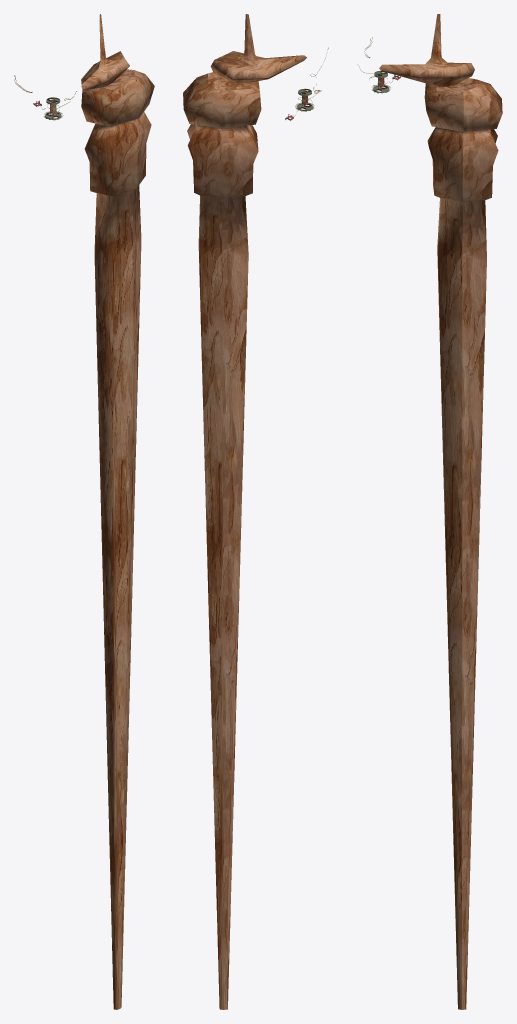
File: Bullet Station 15.fbx
3 renders of one model, left to right at view 1: azimuth 30°, elevation 25°; view 2: azimuth 150°, elevation 25°; view 3: azimuth 330°, elevation 25°, orthographic.
Visible parts, largest first — view 1: STG08_ON_17; view 2: STG08_ON_17; view 3: STG08_ON_17.
Boxes of the visible parts, bbox=[...] form: STG08_ON_17: bbox=[14, 14, 154, 1009]; STG08_ON_17: bbox=[183, 14, 328, 1009]; STG08_ON_17: bbox=[357, 14, 502, 1009].
Bounding box in the file's own units: 526062 × 3679133 × 337638.
